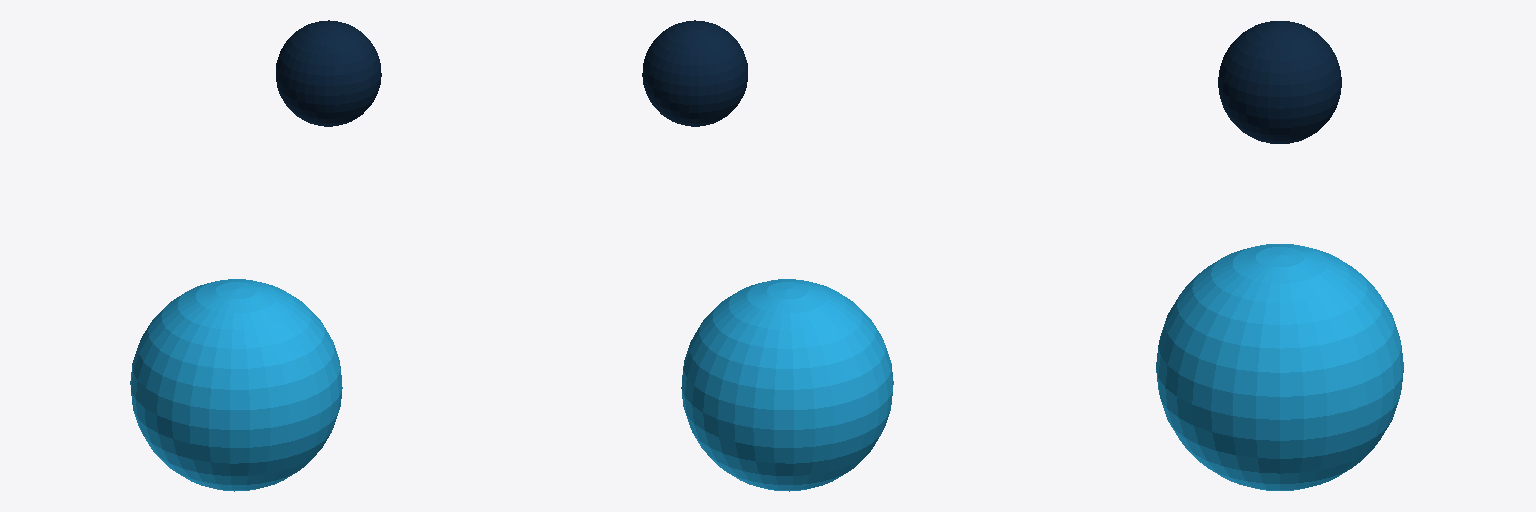
URDF robot description (child):
<?xml version="1.0" ?>
<robot name="child">
    <link name="head">
        <visual>
            <geometry>
                <sphere radius="0.1"/>
            </geometry>
            <material>
                <color rgba="0.2 0.7 0.9 1"/>
            </material>
            <origin rpy="0 0 0" xyz="0.1 0 0.3"/>
        </visual>
    </link>
    <joint name="jointA" type="revolute">
        <axis xyz="1 0 0"/>
        <origin rpy="0 0 0" xyz="0.1 0 0.3"/>
        <parent link="head"/>
        <child link="ear"/>
        <limit effort="190" lower="-1.1" upper="0.4141" velocity="5.89"/>
    </joint>
    <link name="ear">
        <visual>
            <geometry>
                <sphere radius="0.05"/>
            </geometry>
            <material>
                <color rgba="0.1 0.2 0.3 1"/>
            </material>
            <origin rpy="0 0 0 " xyz="0.1 0 0.3"/>
        </visual>
    </link>
</robot>

--- Facts derived from the render (not from the file) ---
Views: 3 orthographic renders of the robot side by side, from view 1: azimuth 30°, elevation 25°; view 2: azimuth 150°, elevation 25°; view 3: azimuth 270°, elevation 25°.
Model child with 2 links and 1 joints (1 revolute), rooted at head, posed all joints at 0.
Links seen in each view (by area): view 1: head, ear; view 2: head, ear; view 3: head, ear.
Link boxes in pixels (x1=…): head: x1=130, y1=279, x2=342, y2=491; ear: x1=276, y1=20, x2=381, y2=126; head: x1=681, y1=279, x2=893, y2=491; ear: x1=642, y1=20, x2=747, y2=126; head: x1=1156, y1=244, x2=1403, y2=490; ear: x1=1218, y1=21, x2=1341, y2=143.
Size in the robot's own frame: 0.25 by 0.2 by 0.45 metres.
Geometry: primitives only (box / cylinder / sphere), no mesh files.